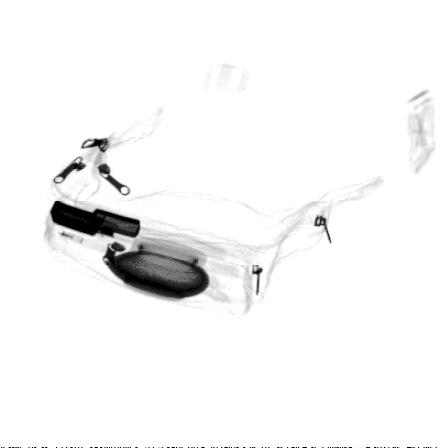Lighter: (49, 200, 142, 239)
